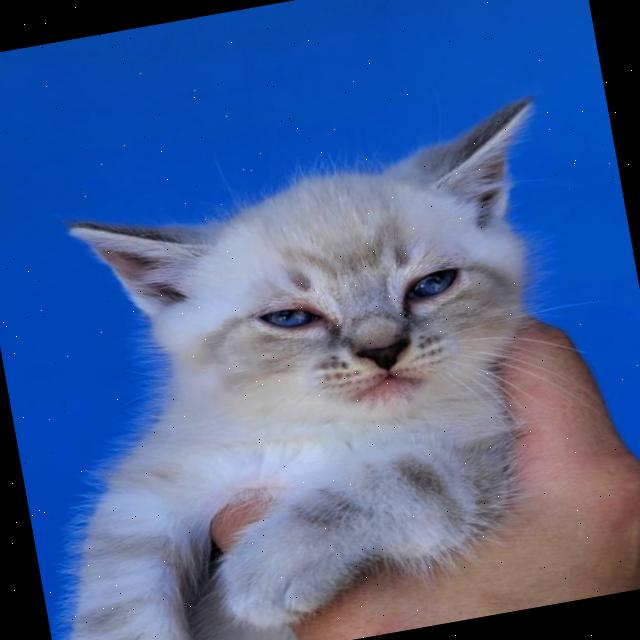siamese_cat: (43, 76, 614, 486)
